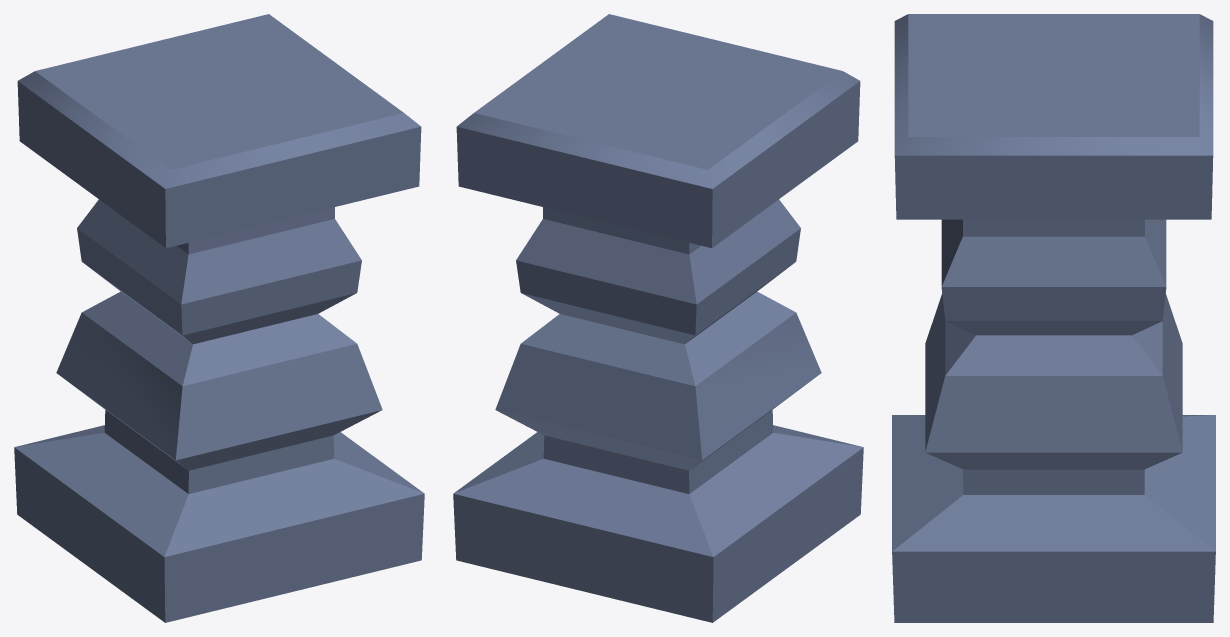
The model's file is Pedestalv01.fbx.
3 views of the same model, side by side, from view 1: azimuth 30°, elevation 25°; view 2: azimuth 150°, elevation 25°; view 3: azimuth 270°, elevation 25° (orthographic). The views are drawn at different scales.
Parts seen in each view (by area): view 1: pillar; view 2: pillar; view 3: pillar.
Boxes of the visible parts, x1,y1,x2,y2 form: pillar: (14,14,424,622); pillar: (453,14,863,622); pillar: (892,14,1215,622).
Size of the model in its own units: 0.8948 by 1.46 by 0.8948.
